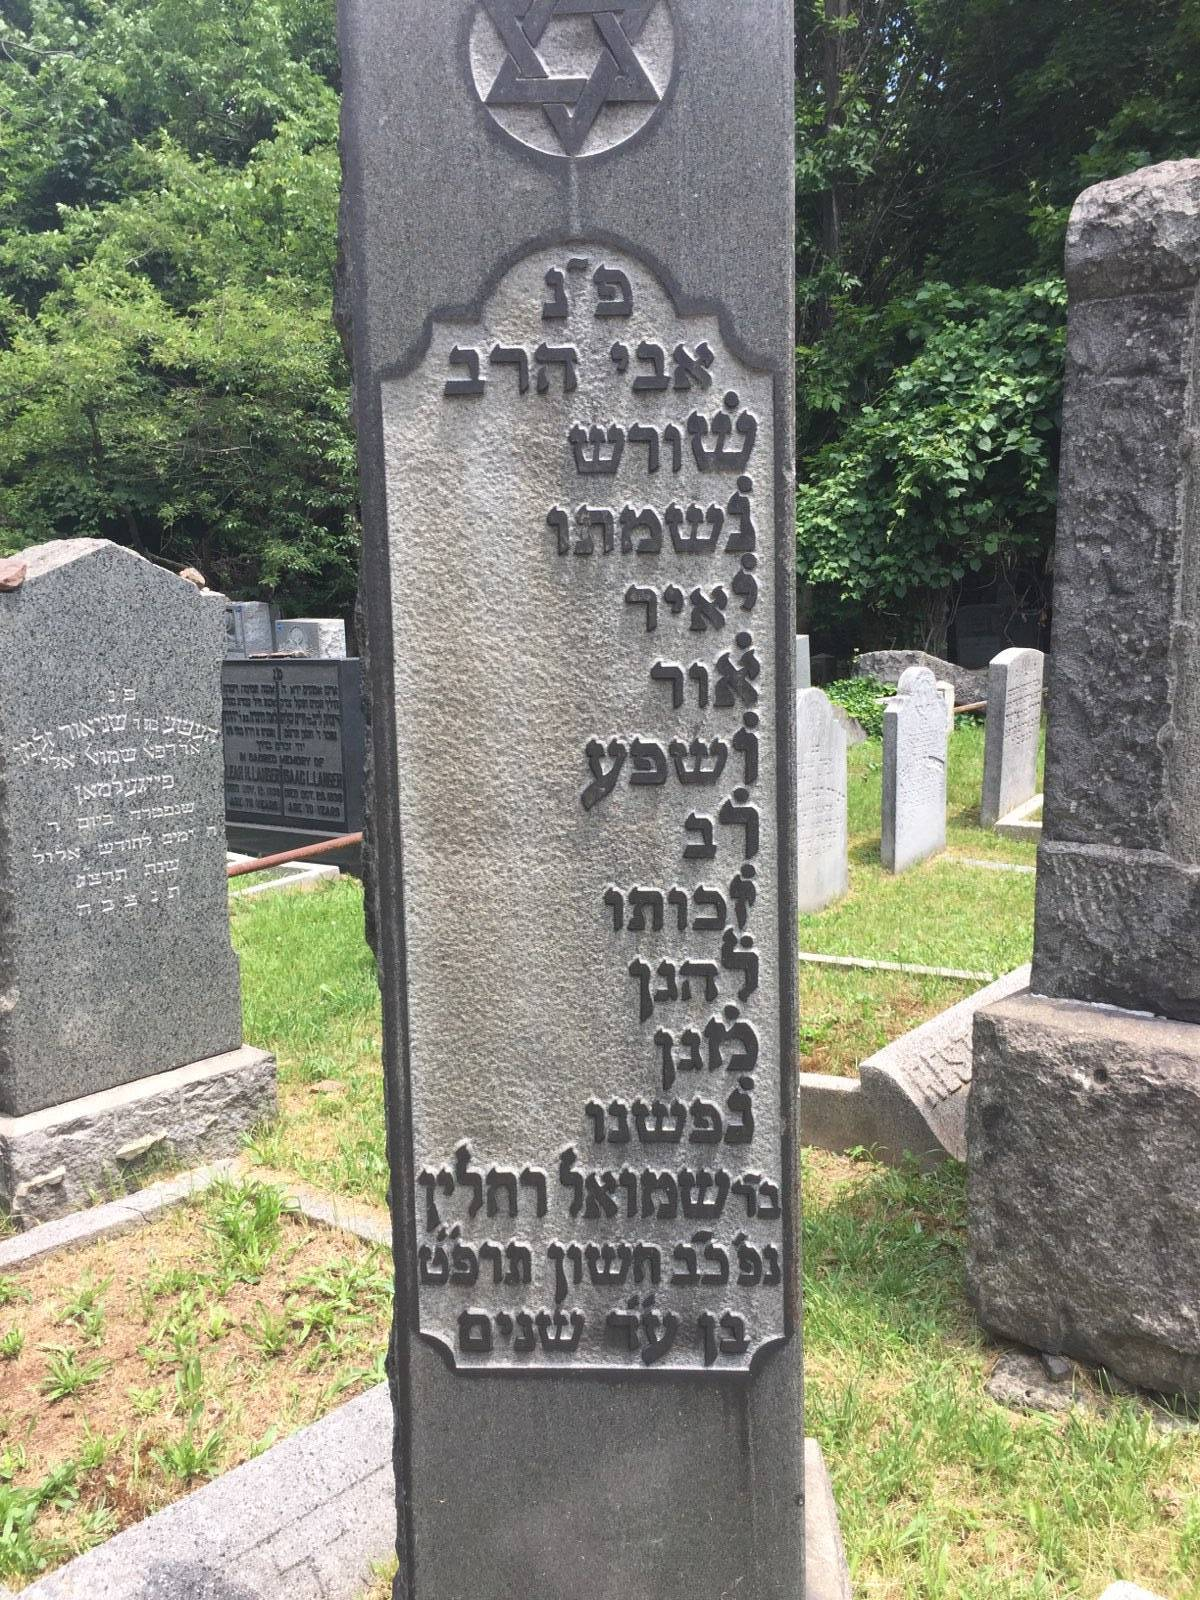obelisk: (328, 0, 805, 1600)
